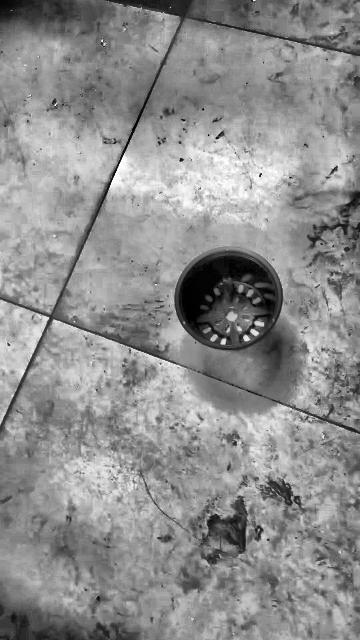pot: (175, 248, 283, 351)
